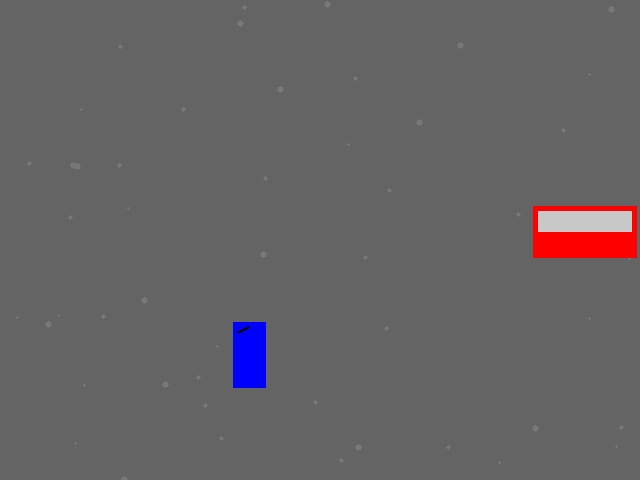car: (533, 206, 636, 257)
motorcycle: (233, 322, 265, 387)
